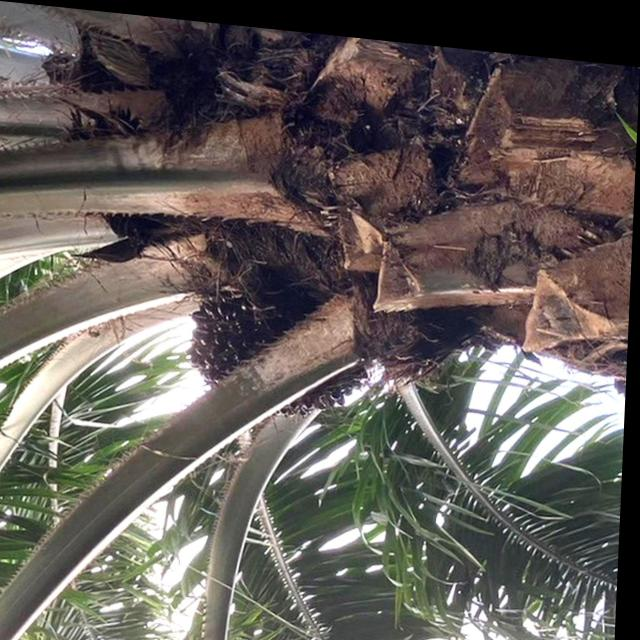ripe: (187, 272, 370, 420)
